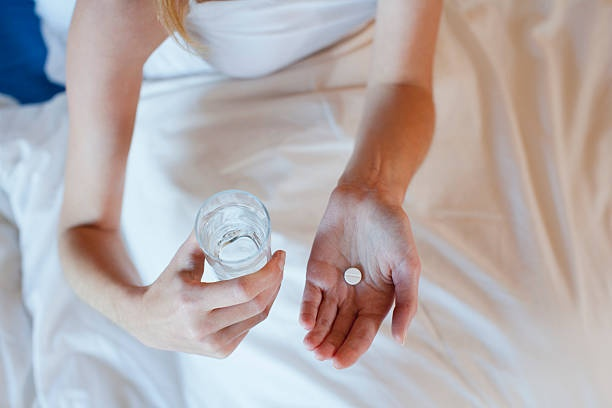pills: (342, 265, 364, 288)
